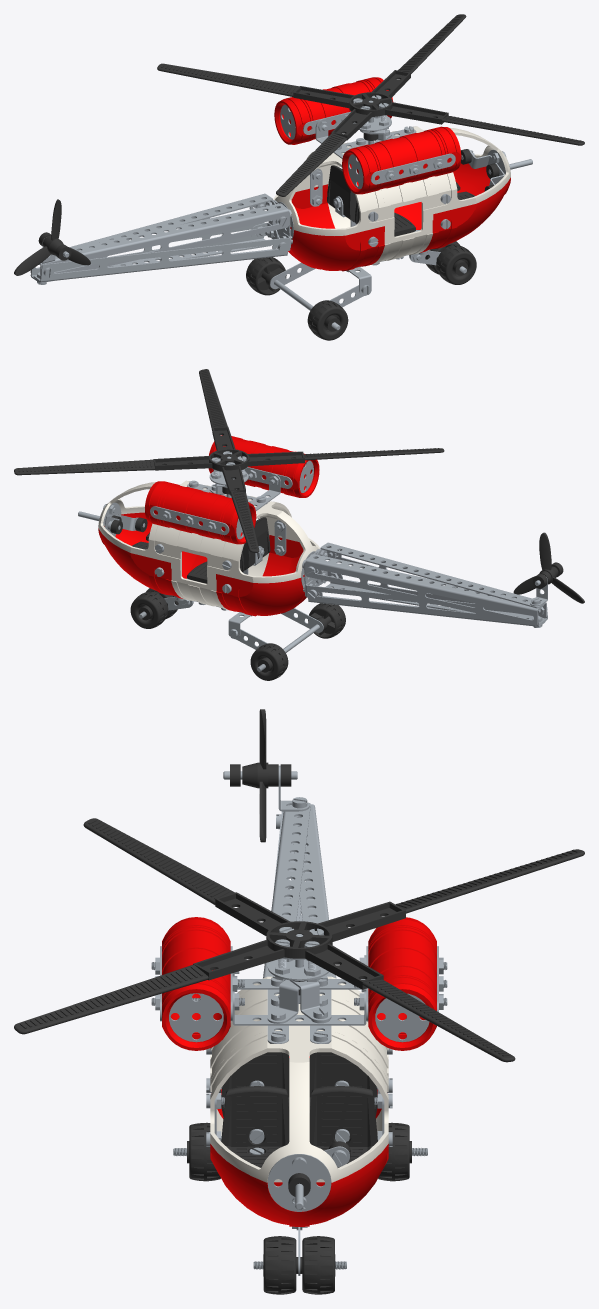
Rendered from Hubschrauber.glb.
The picture shows the model from 3 angles, top to bottom: view 1: azimuth 30°, elevation 25°; view 2: azimuth 150°, elevation 25°; view 3: azimuth 270°, elevation 25°; orthographic projection. The views are drawn at different scales.
Parts seen in each view (by area): view 1: Winkelstab 20 (×4), Rotorblatt (×4), Zylindersegment 34 (×4), Bugsegment 60, Bugsegment 80, Rad 27,5 x 15,5 (×3), Zylindersegment mit Fenster, Kanzel 60, Kanzel 80, Propeller, Sitz, Lochband 7 (+1 smaller); view 2: Winkelstab 20 (×4), Rotorblatt (×4), Zylindersegment 34 (×3), Bugsegment 60, Rad 27,5 x 15,5 (×3), Bugsegment 80, Kanzel 60, Zylindersegment mit Fenster, Kanzel 80, Propeller, Lochband 7, Sitz (+1 smaller); view 3: Rotorblatt (×4), Zylindersegment 34 (×4), Kanzel 80, Sitz (×3), Rad 27,5 x 15,5 (×4), Scheibe 30 (×3), Winkelstab 20 (×2), Bugsegment 80, Sitz Schwarz, Zylindersegment mit Fenster (×2), Z-Winkel (×2), Propeller (+2 smaller).
Part boxes in pixels (x1,y1,x2,y2): Winkelstab 20 (×4): [30, 193, 288, 282]; Rotorblatt (×4): [157, 14, 584, 196]; Zylindersegment 34 (×4): [274, 77, 461, 194]; Bugsegment 60: [288, 184, 384, 271]; Bugsegment 80: [394, 163, 510, 252]; Rad 27,5 x 15,5 (×3): [246, 245, 476, 340]; Zylindersegment mit Fenster: [372, 178, 433, 264]; Kanzel 60: [273, 144, 384, 235]; Kanzel 80: [391, 126, 510, 213]; Propeller: [14, 199, 90, 275]; Sitz: [327, 165, 356, 220]; Lochband 7: [370, 153, 455, 184]; Winkelstab 20 (×4): [305, 542, 547, 626]; Rotorblatt (×4): [14, 369, 444, 552]; Zylindersegment 34 (×3): [145, 435, 319, 544]; Bugsegment 60: [216, 535, 306, 616]; Rad 27,5 x 15,5 (×3): [130, 591, 345, 680]; Bugsegment 80: [98, 512, 207, 598]; Kanzel 60: [216, 497, 319, 583]; Zylindersegment mit Fenster: [171, 529, 227, 609]; Kanzel 80: [98, 480, 210, 562]; Propeller: [513, 532, 584, 603]; Lochband 7: [150, 506, 229, 535]; Sitz: [242, 517, 270, 569]; Rotorblatt (×4): [14, 818, 584, 1062]; Zylindersegment 34 (×4): [162, 917, 436, 1050]; Kanzel 80: [210, 1030, 388, 1182]; Sitz (×3): [221, 1052, 377, 1146]; Rad 27,5 x 15,5 (×4): [189, 1122, 409, 1294]; Scheibe 30 (×3): [169, 993, 429, 1211]; Winkelstab 20 (×2): [263, 802, 336, 978]; Bugsegment 80: [210, 1144, 388, 1226]; Sitz Schwarz: [221, 1086, 289, 1146]; Zylindersegment mit Fenster (×2): [210, 995, 388, 1135]; Z-Winkel (×2): [267, 979, 331, 1023]; Propeller: [242, 709, 268, 842].
Size of the model in its own units: 0.44 by 0.1552 by 0.2691.
